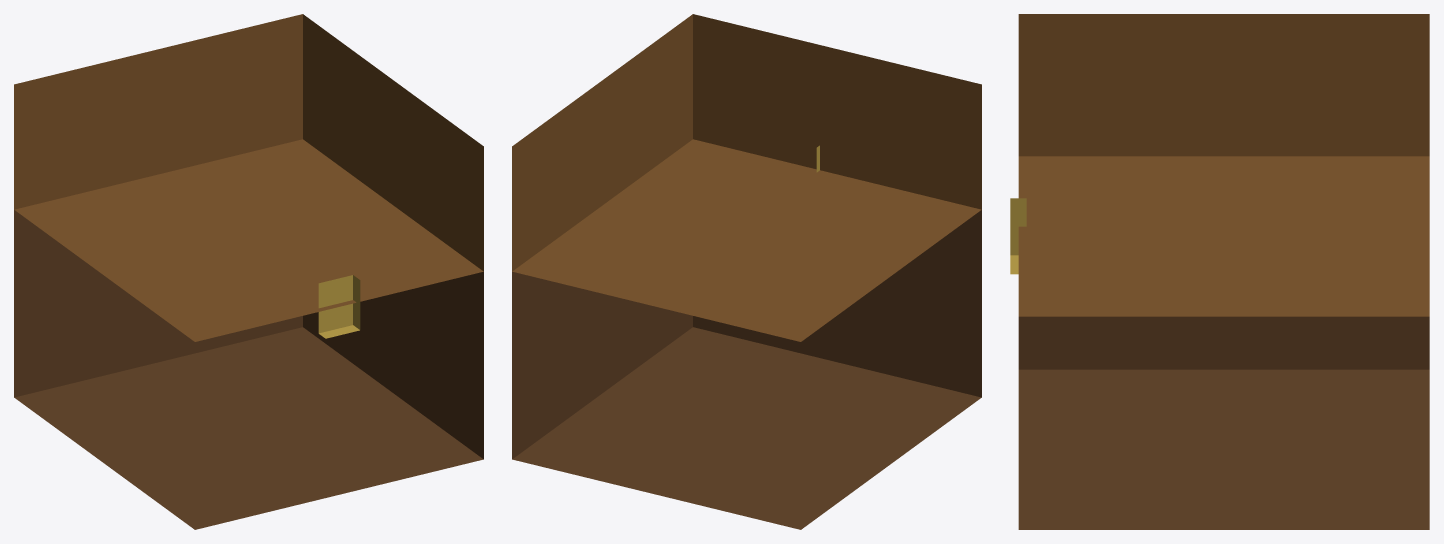
File: chest.glb
The picture shows the model from 3 angles, left to right: view 1: azimuth 30°, elevation 25°; view 2: azimuth 150°, elevation 25°; view 3: azimuth 270°, elevation 25°; orthographic projection. The views are drawn at different scales.
Visible parts, largest first — view 1: chest; view 2: chest; view 3: chest.
Part boxes in pixels (left/top/right/bottom): chest: left=14, top=14, right=483, bottom=529; chest: left=512, top=14, right=981, bottom=529; chest: left=1010, top=14, right=1429, bottom=529.
Size of the model in its own units: 1.84 by 1.9 by 2.03.
